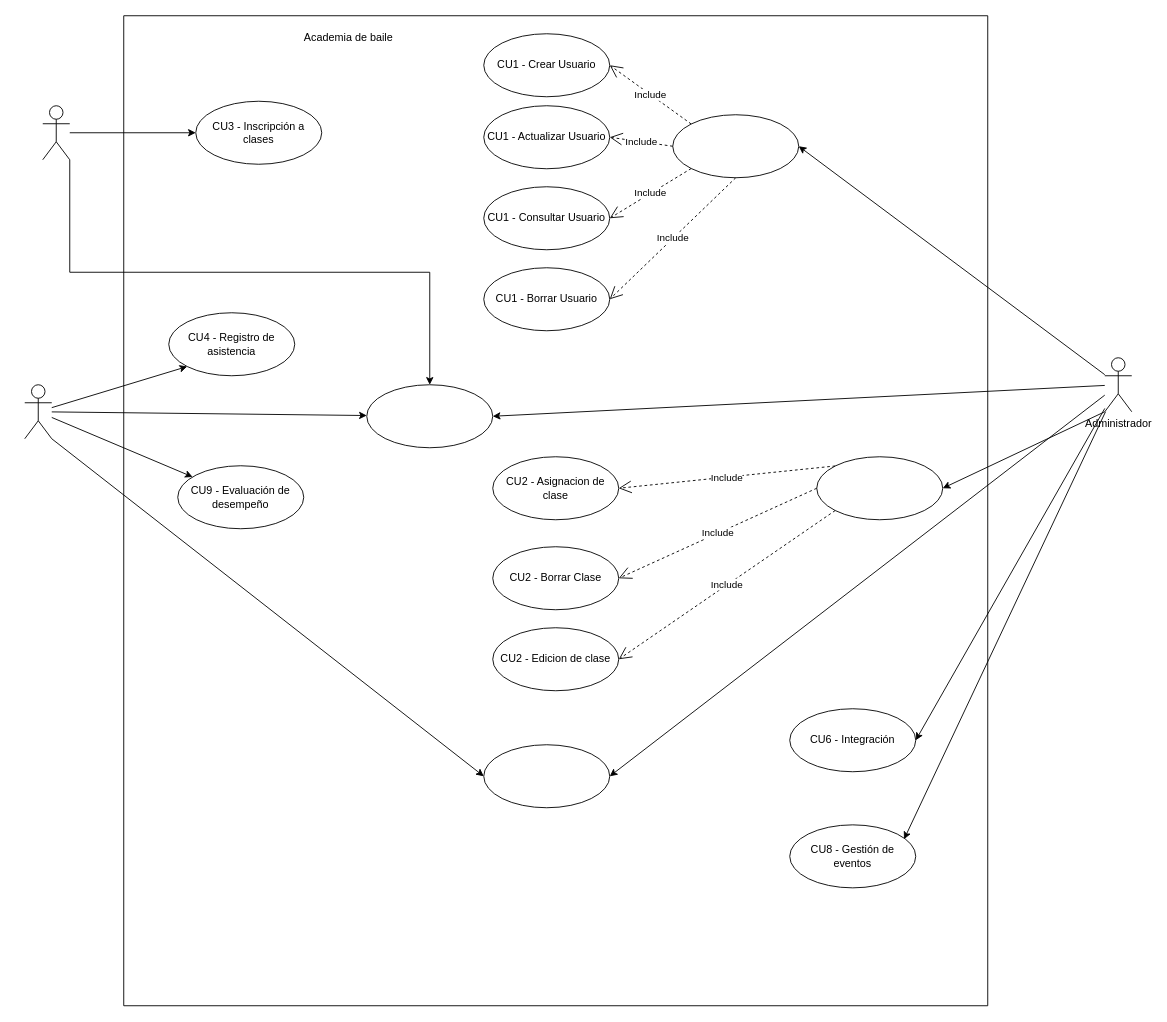
The diagram is 1167 pixels wide and 1022 high, and some of its shapes have lost their labels. Each missing label, with the centre of its shape:
"Alumno" goes at pixel 56 132.
"CU1 - Gestión de usuarios" goes at pixel 735 146.
"CU2 - Gestion de clase" goes at pixel 879 488.
"CU5 - Informes" goes at pixel 546 776.
"CU7 - Comunicación con Usuarios" goes at pixel 429 416.
"Instructor" goes at pixel 38 411.
